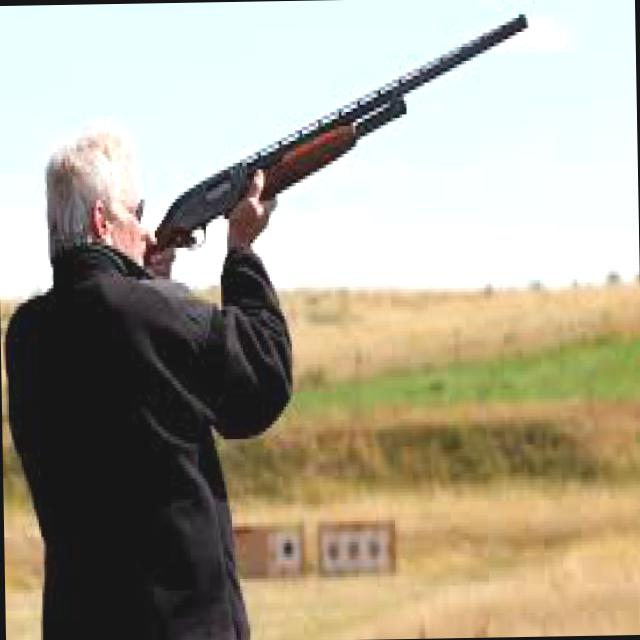long weapon: (143, 0, 530, 283)
